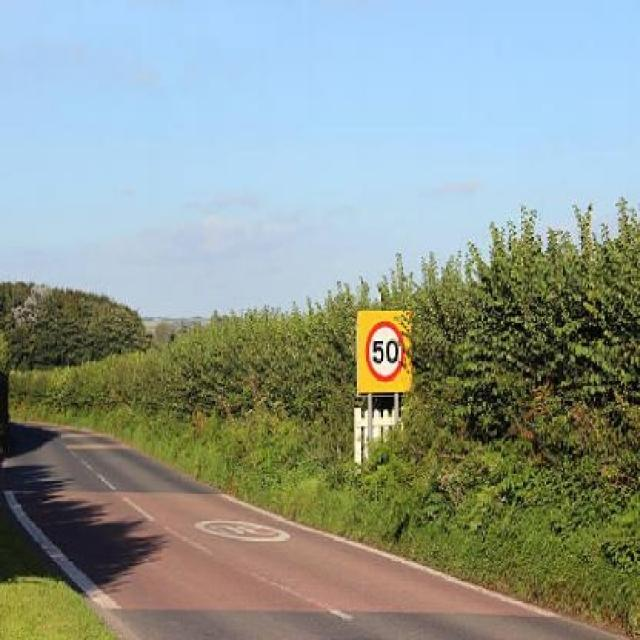forb_speed_over_50: (364, 312, 408, 386)
